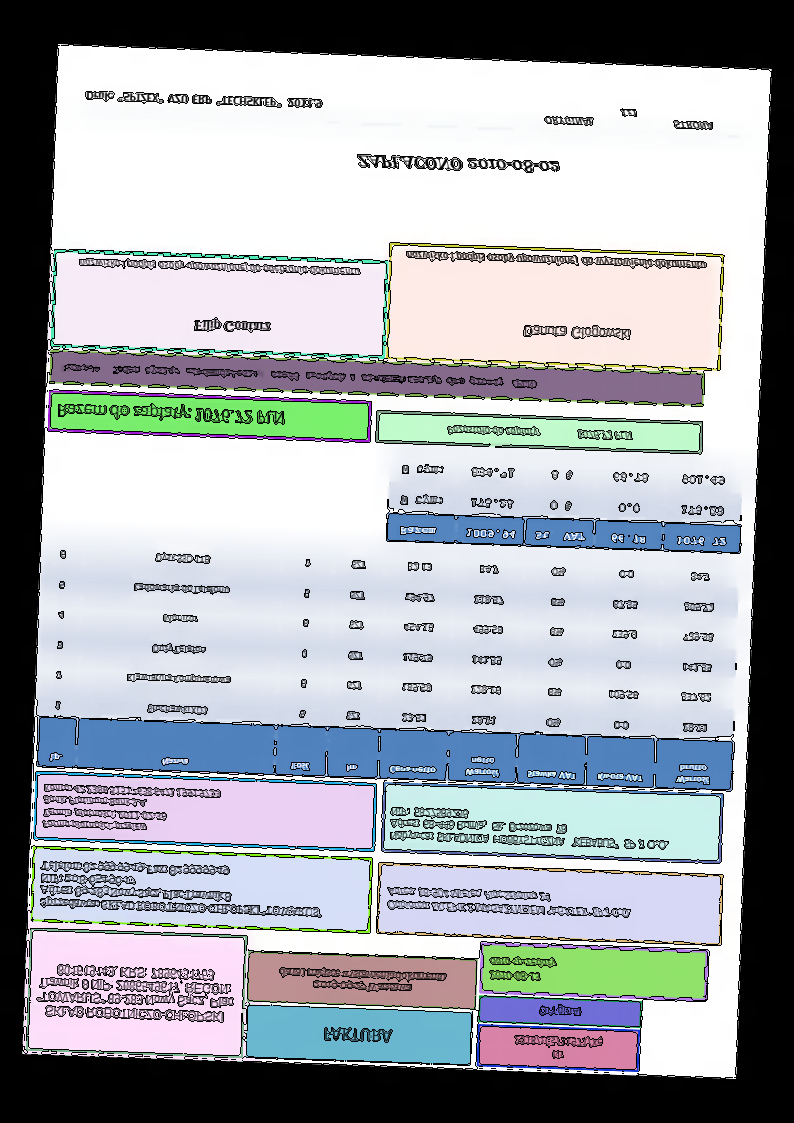Table: (35, 532, 739, 792), (385, 450, 745, 554)
TextBox: (36, 857, 325, 920), (57, 361, 538, 391), (387, 805, 674, 853), (33, 962, 237, 1025), (40, 780, 223, 837), (385, 884, 634, 920), (404, 249, 707, 274), (77, 255, 361, 279), (56, 400, 286, 428), (84, 88, 325, 111), (352, 151, 562, 177), (276, 965, 450, 996), (543, 104, 716, 132), (445, 422, 635, 443), (511, 1032, 606, 1062), (522, 320, 631, 342), (487, 954, 559, 985), (321, 1023, 393, 1045), (192, 317, 272, 336), (536, 1003, 583, 1021)
